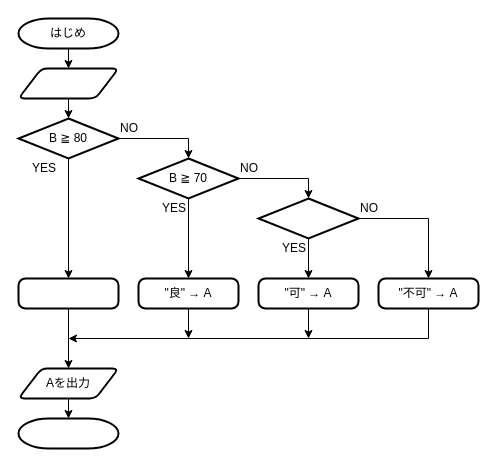
This 496x466 diagram has some shape labels left out. The centre of each missing label's shape, as x and y in pixels:
"優" → A: the point at 68,293
B ≧ 60: the point at 308,218
Bに入力: the point at 68,83
おわり: the point at 68,433
